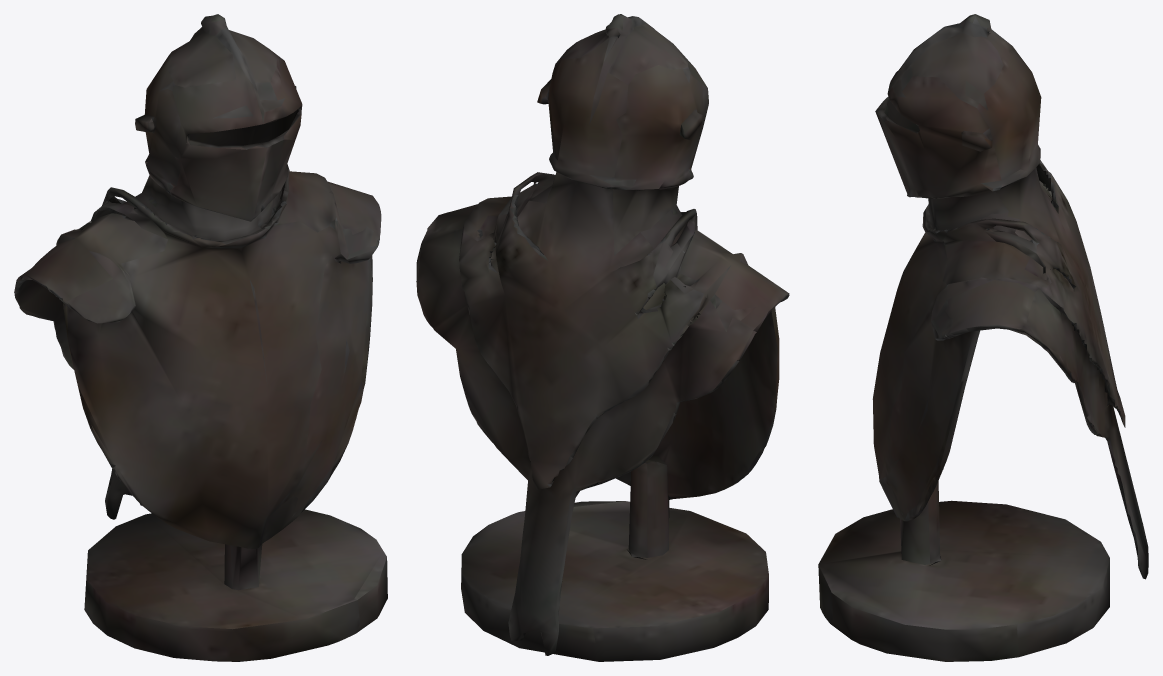
Rendered from sturdy-iron-suit-of-armour-v001.glb.
The picture shows the model from 3 angles, left to right: view 1: azimuth 30°, elevation 25°; view 2: azimuth 150°, elevation 25°; view 3: azimuth 270°, elevation 25°; orthographic projection. The views are drawn at different scales.
Parts seen in each view (by area): view 1: sturdy-iron-suit-of-armour; view 2: sturdy-iron-suit-of-armour; view 3: sturdy-iron-suit-of-armour.
Boxes of the visible parts, x1,y1,x2,y2 form: sturdy-iron-suit-of-armour: (14, 14, 387, 661); sturdy-iron-suit-of-armour: (416, 14, 789, 661); sturdy-iron-suit-of-armour: (818, 14, 1148, 661).
Bounding box in the file's own units: 1.2 × 1.98 × 1.03.
1 material, 1 textured.
